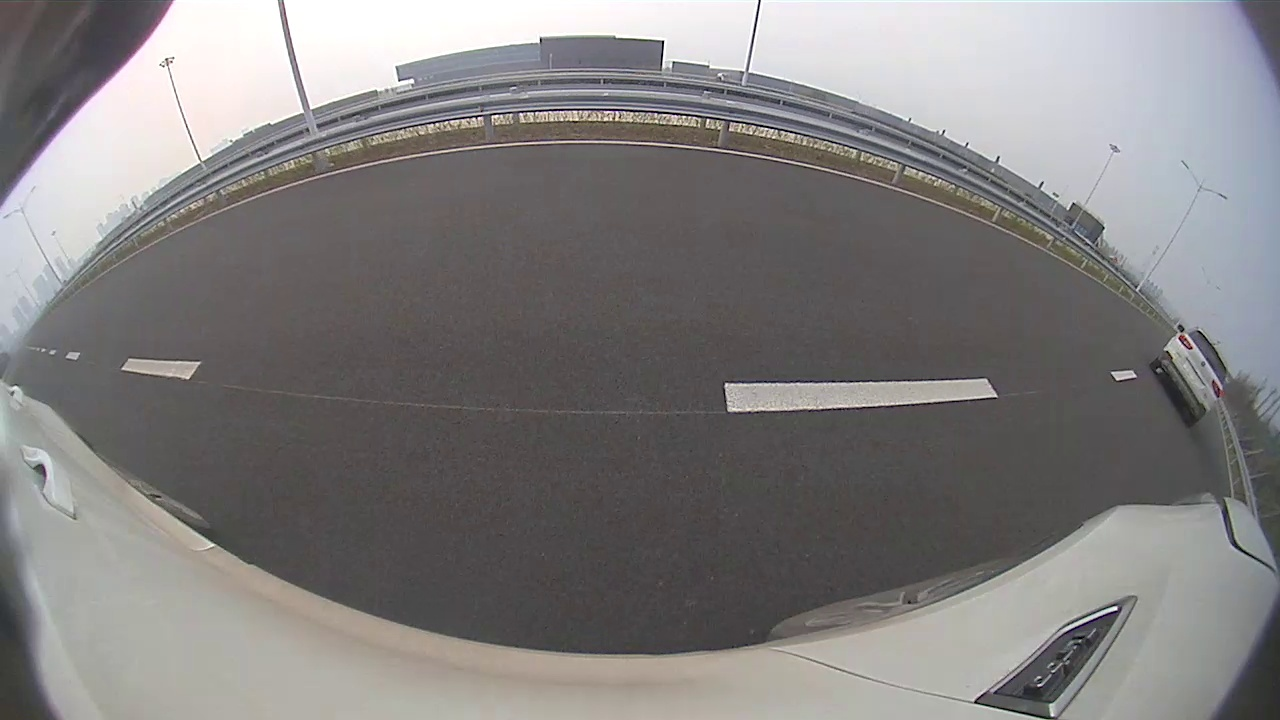car: (623, 114, 754, 221)
